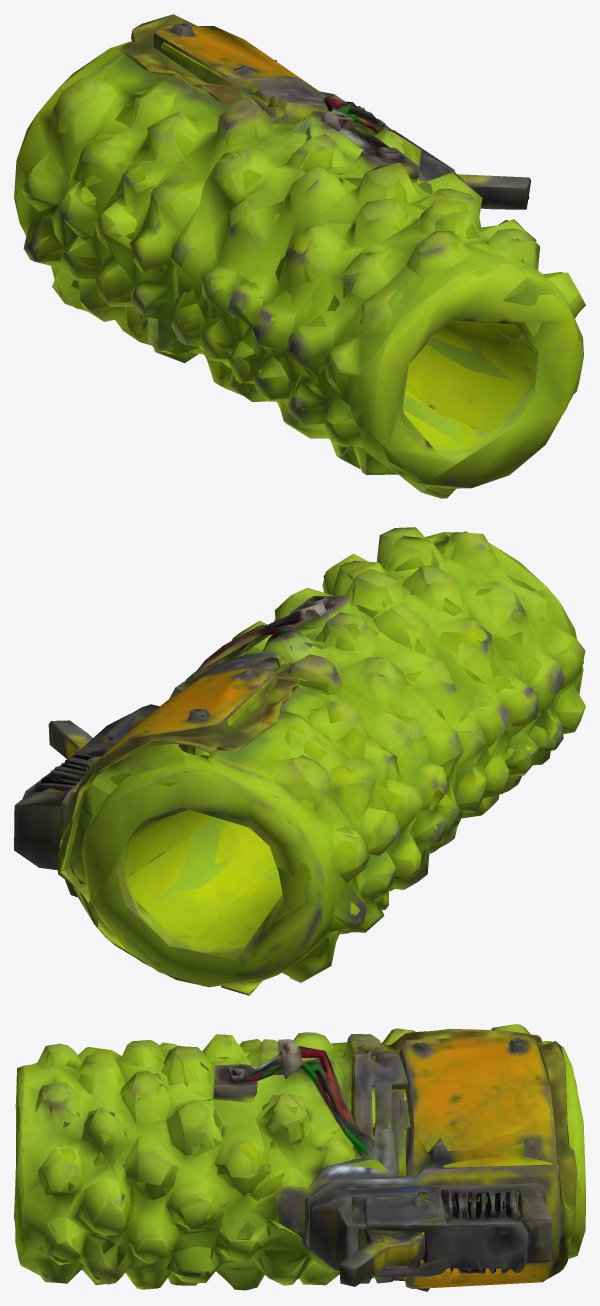
The model's file is fanshuo-roller.glb.
3 views of the same model, one above another, from view 1: azimuth 30°, elevation 25°; view 2: azimuth 150°, elevation 25°; view 3: azimuth 270°, elevation 25° (orthographic). The views are drawn at different scales.
Visible parts, largest first — view 1: world; view 2: world; view 3: world.
Boxes of the visible parts, x1,y1,x2,y2 form: world: [14, 14, 585, 498]; world: [14, 527, 585, 995]; world: [14, 1024, 585, 1291].
Bounding box in the file's own units: 0.2154 × 0.1444 × 0.3.
1 material, 1 textured.
